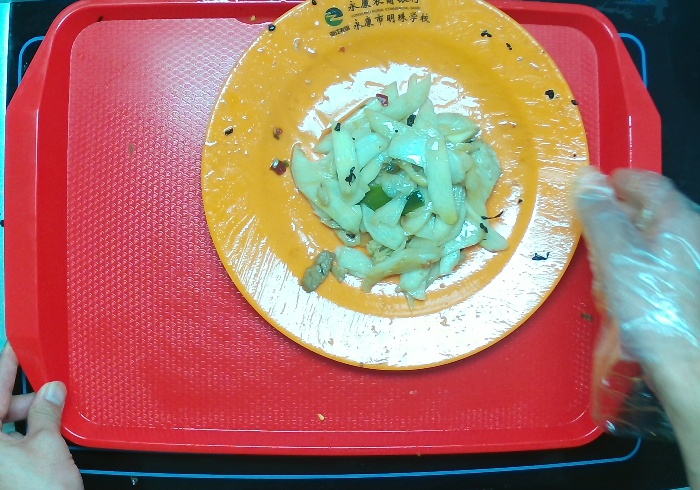YKMZ-Ju_Se_Mian_Pan: (195, 1, 591, 371)
